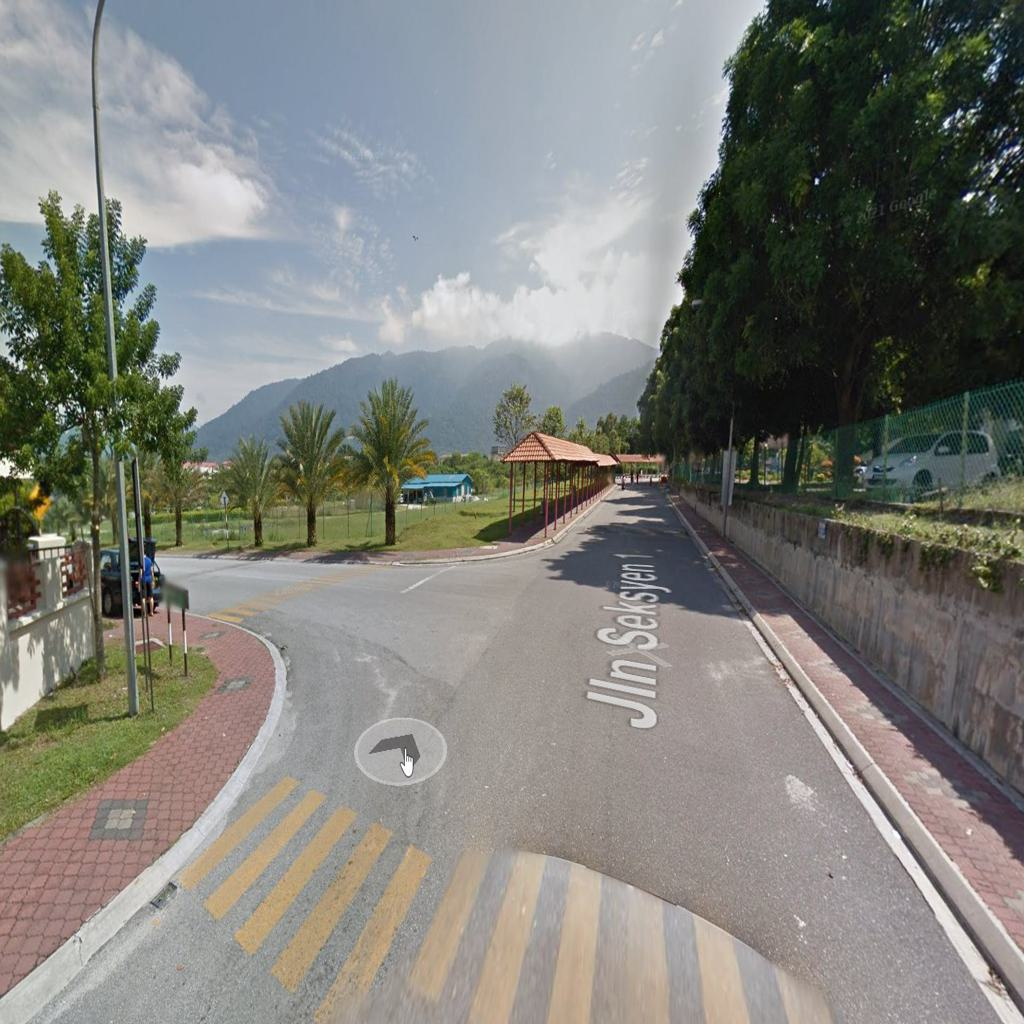Junction: (144, 541, 513, 717)
